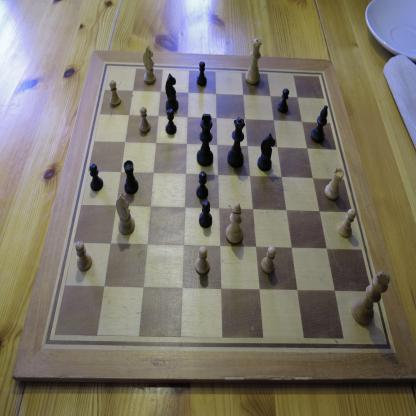black-bishop: (310, 105, 328, 144)
black-king: (196, 113, 214, 167)
black-knight: (257, 133, 276, 172), (165, 73, 179, 112)
black-pawn: (90, 163, 104, 192), (198, 199, 212, 228), (196, 171, 209, 200), (165, 108, 177, 136), (277, 88, 289, 113), (196, 61, 207, 87)
black-queen: (227, 116, 245, 168)
black-rook: (123, 159, 139, 195)
white-bishop: (225, 202, 244, 244)
white-king: (351, 271, 391, 326)
white-knight: (115, 192, 136, 236), (142, 44, 156, 84)
white-pawn: (336, 208, 356, 238), (75, 240, 92, 272), (195, 246, 210, 276), (261, 246, 276, 274), (138, 106, 151, 134), (109, 80, 121, 107)
white-queen: (245, 37, 262, 85)
white-rook: (324, 167, 344, 200)
